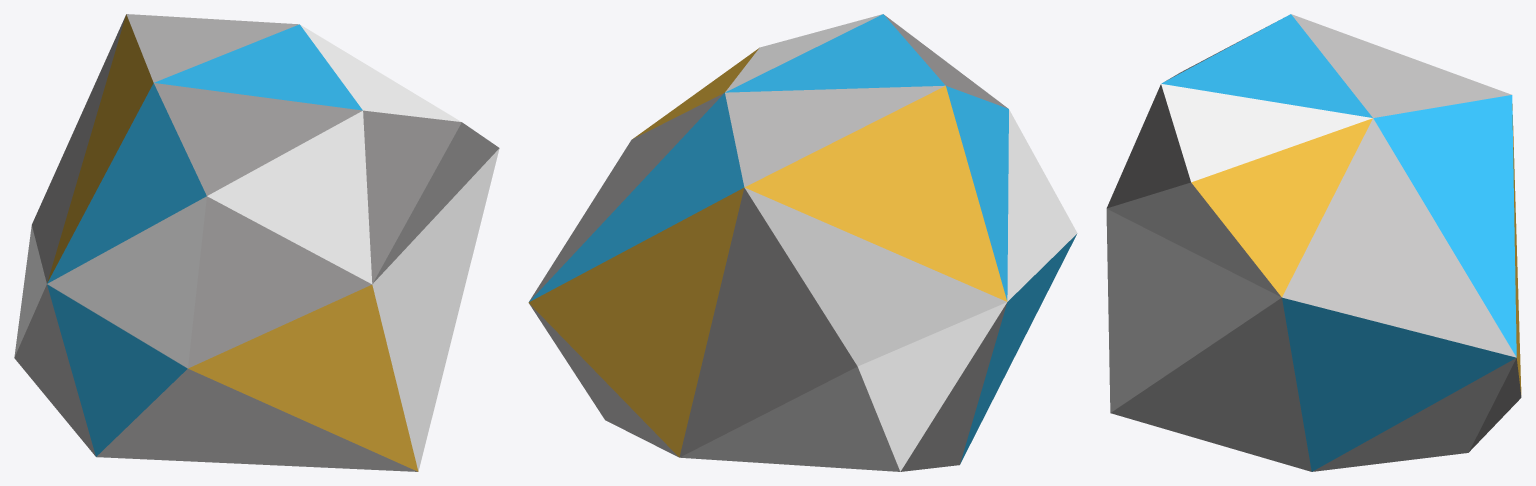
File: Rock.fbx
The picture shows the model from 3 angles, left to right: view 1: azimuth 30°, elevation 25°; view 2: azimuth 150°, elevation 25°; view 3: azimuth 270°, elevation 25°; orthographic projection. The views are drawn at different scales.
Visible parts, largest first — view 1: Cube; view 2: Cube; view 3: Cube.
Part boxes in pixels (x1,y1,x2,y2): Cube: (14, 14, 499, 471); Cube: (528, 14, 1077, 471); Cube: (1106, 14, 1521, 471).
Bounding box in the file's own units: 161 × 174 × 148.
